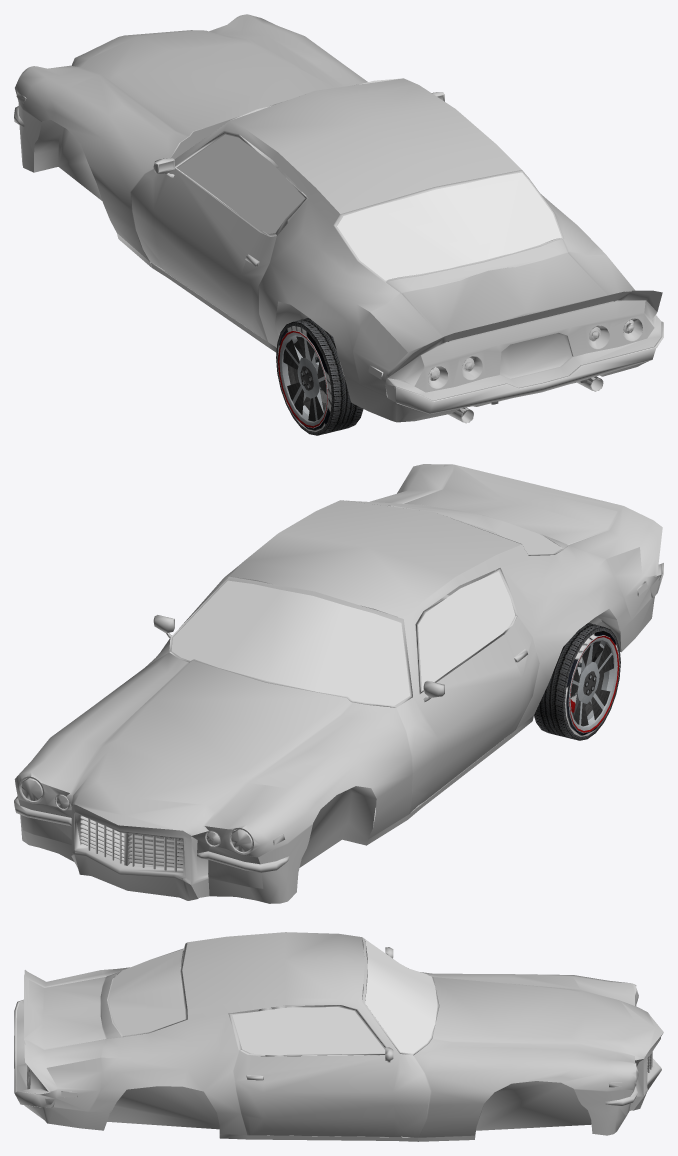
File: 1972 sedan.fbx
3 views of the same model, one above another, from view 1: azimuth 30°, elevation 25°; view 2: azimuth 150°, elevation 25°; view 3: azimuth 270°, elevation 25° (orthographic). The views are drawn at different scales.
Parts seen in each view (by area): view 1: 1972 sedan body, 1972 sedan glass, 1972 sedan interior, 1972 sedan tire; view 2: 1972 sedan body, 1972 sedan glass, 1972 sedan interior, 1972 sedan tire; view 3: 1972 sedan body, 1972 sedan glass, 1972 sedan interior.
Boxes of the visible parts, box(x1,y1,x2,y2) form: 1972 sedan body: box(15, 14, 662, 422); 1972 sedan glass: box(172, 84, 561, 280); 1972 sedan interior: box(14, 78, 663, 423); 1972 sedan tire: box(276, 318, 363, 435); 1972 sedan body: box(14, 464, 662, 903); 1972 sedan glass: box(171, 500, 561, 705); 1972 sedan interior: box(14, 504, 663, 878); 1972 sedan tire: box(534, 623, 620, 740); 1972 sedan body: box(16, 932, 663, 1137); 1972 sedan glass: box(109, 939, 437, 1054); 1972 sedan interior: box(14, 937, 661, 1141).
Bounding box in the file's own units: 256 × 180 × 652.
